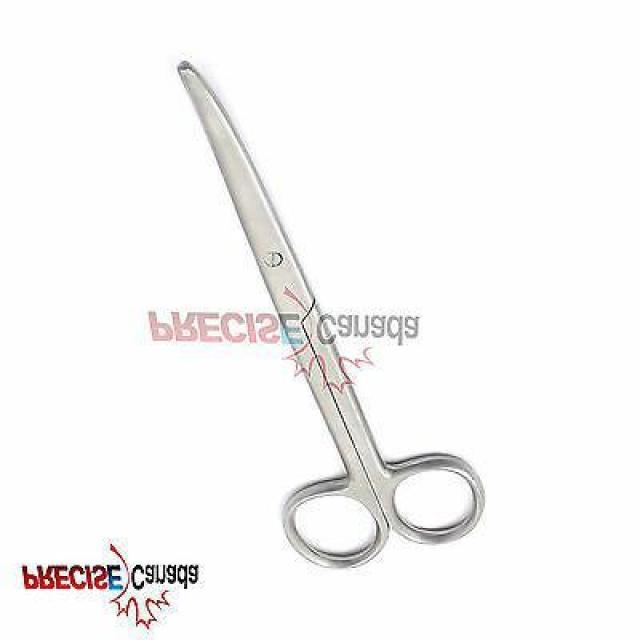Mayo_metz: (174, 59, 488, 573)
